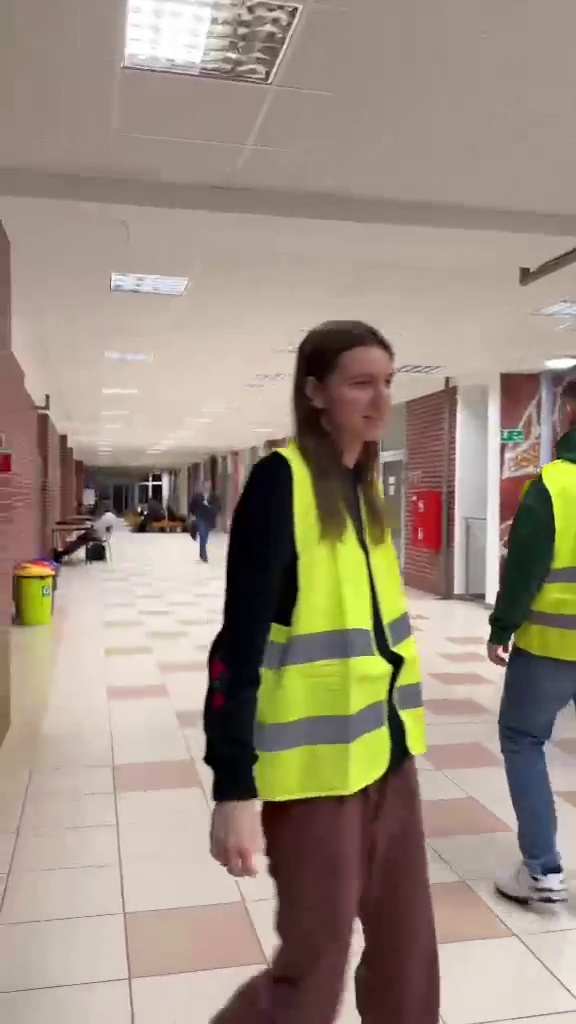vest: (213, 310, 444, 1024), (493, 367, 576, 913)
